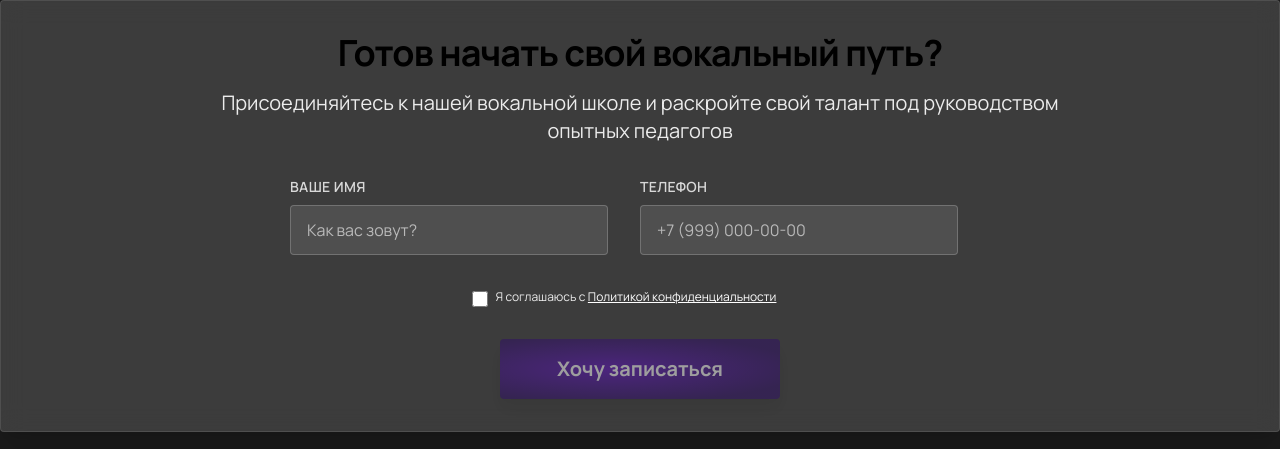
Test: EnrollmentForm — состояние кнопки › кнопка активна после заполнения формы и согласия
Click the checkbox at coordinates (480, 299), box left=472, top=291, right=488, bottom=307
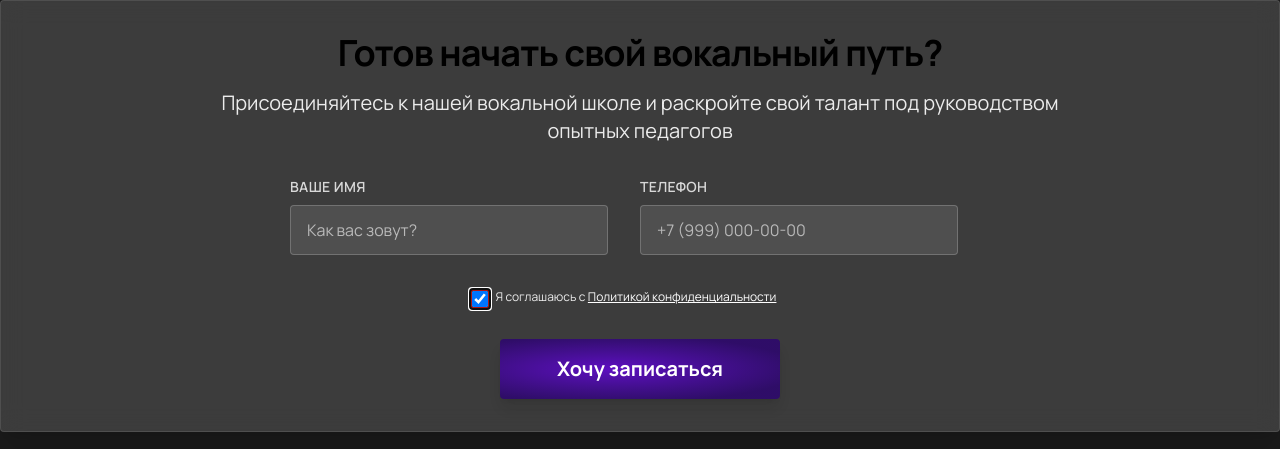
Expected: the button "Хочу записаться" is enabled, left=500, top=339, right=780, bottom=399
